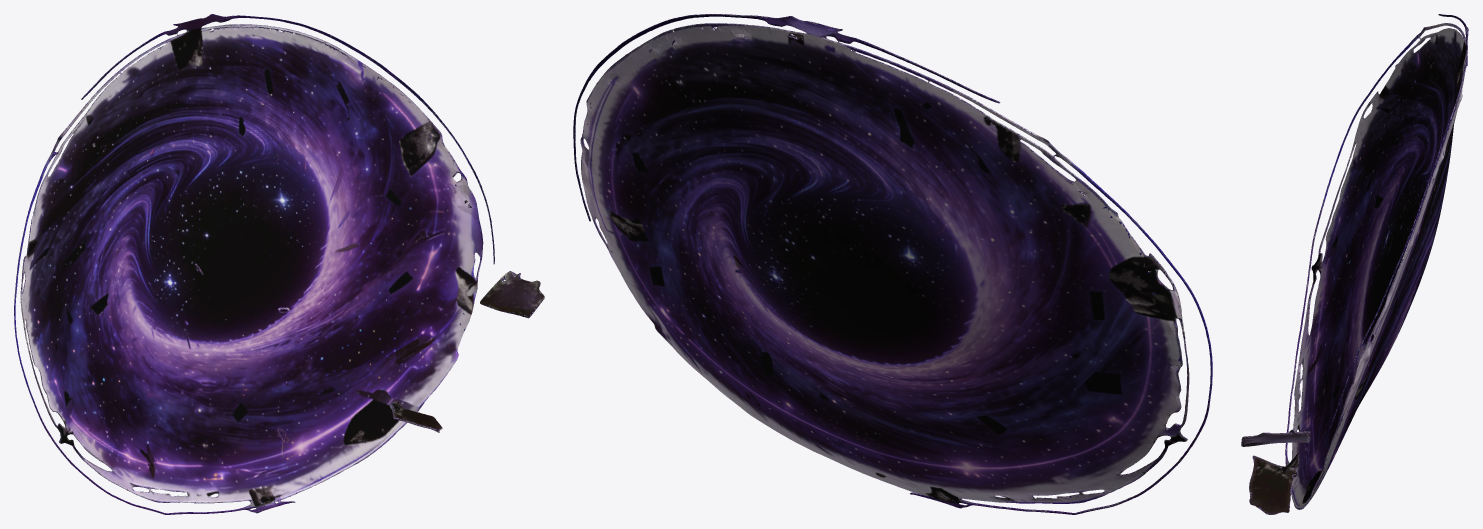
Rendered from grav-rift-web.glb.
3 renders of one model, left to right at view 1: azimuth 30°, elevation 25°; view 2: azimuth 150°, elevation 25°; view 3: azimuth 270°, elevation 25°, orthographic. The views are drawn at different scales.
Visible parts, largest first — view 1: world; view 2: world; view 3: world.
Part boxes in pixels (x1=…): world: x1=14, y1=14, x2=544, y2=514; world: x1=573, y1=14, x2=1212, y2=514; world: x1=1241, y1=14, x2=1468, y2=514.
Size of the model in its own units: 1.99 by 1.66 by 0.7637.
Materials: 1 (1 with a texture image).
